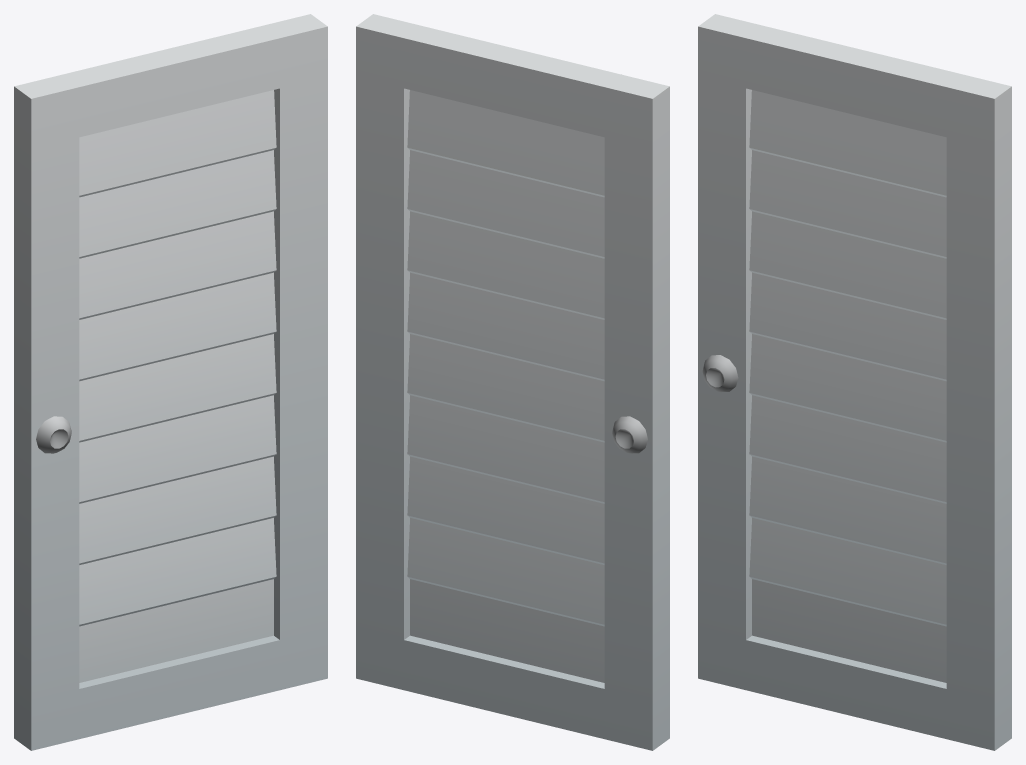
The model's file is Door_White_07.glb.
The picture shows the model from 3 angles, left to right: view 1: azimuth 30°, elevation 25°; view 2: azimuth 150°, elevation 25°; view 3: azimuth 330°, elevation 25°; orthographic projection.
Visible parts, largest first — view 1: Door_White_07; view 2: Door_White_07; view 3: Door_White_07.
Boxes of the visible parts, <box> form: Door_White_07: <box>14,14,327,750</box>; Door_White_07: <box>356,14,669,750</box>; Door_White_07: <box>698,14,1011,750</box>.
Bounding box in the file's own units: 1 × 2.1 × 0.1634.
Materials: 1 (1 with a texture image).
